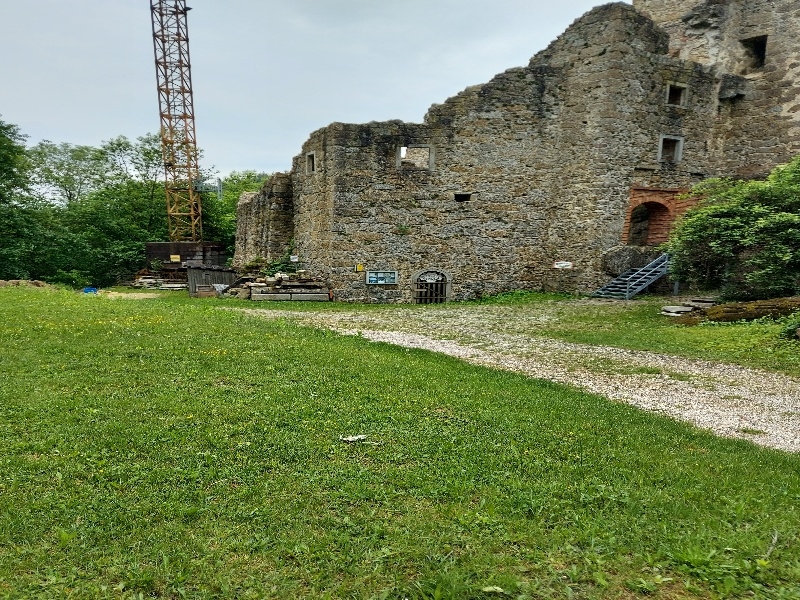dungeon: (406, 260, 453, 307)
